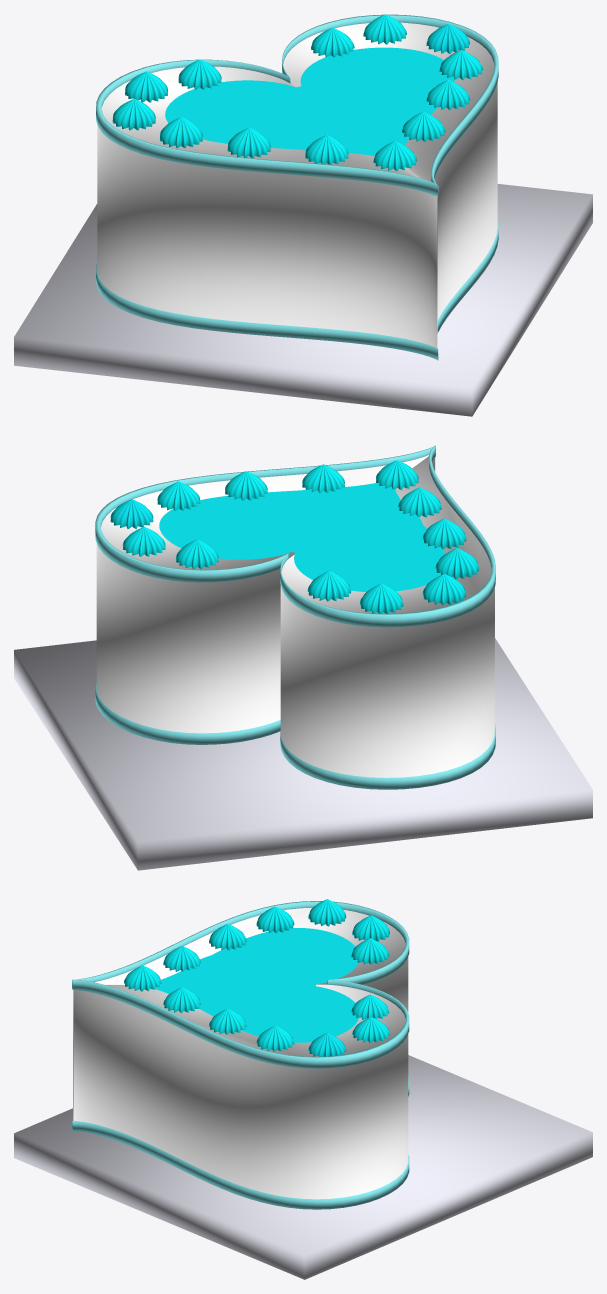
Rendered from heart_vanilla_style3.glb.
3 renders of one model, top to bottom at view 1: azimuth 30°, elevation 25°; view 2: azimuth 150°, elevation 25°; view 3: azimuth 270°, elevation 25°, orthographic. The views are drawn at different scales.
Parts seen in each view (by area): view 1: HeartCake, IcingStand, CakecolorCircle, IcingRing, CakeTopColor, IcingRing.001, design12, design9, design8, design10, design11, design7 (+7 smaller); view 2: HeartCake, IcingStand, CakecolorCircle, CakeTopColor, IcingRing, IcingRing.001, design12, design10, design9, design8, design11, design14 (+7 smaller); view 3: HeartCake, IcingStand, IcingRing, CakecolorCircle, CakeTopColor, IcingRing.001, design12, design9, design8, design10, design11, design4 (+7 smaller).
Boxes of the visible parts, x1,y1,x2,y2 form: HeartCake: (97, 22, 497, 348); IcingStand: (14, 184, 592, 416); CakecolorCircle: (165, 47, 454, 155); IcingRing: (96, 14, 498, 196); CakeTopColor: (249, 81, 425, 150); IcingRing.001: (96, 219, 498, 360); design12: (112, 98, 155, 130); design9: (160, 117, 202, 148); design8: (227, 127, 270, 158); design10: (125, 71, 167, 102); design11: (178, 59, 221, 89); design7: (305, 135, 348, 164); HeartCake: (96, 455, 494, 777); IcingStand: (14, 638, 592, 870); CakecolorCircle: (159, 483, 445, 591); CakeTopColor: (246, 489, 422, 557); IcingRing: (95, 445, 495, 627); IcingRing.001: (95, 681, 495, 789); design12: (422, 573, 466, 605); design10: (360, 583, 403, 613); design9: (435, 548, 478, 579); design8: (423, 518, 466, 549); design11: (307, 570, 351, 601); design14: (176, 539, 218, 569); HeartCake: (73, 908, 408, 1199); IcingStand: (14, 1055, 592, 1279); IcingRing: (72, 901, 409, 1068); CakecolorCircle: (155, 928, 358, 1042); CakeTopColor: (178, 950, 315, 1017); IcingRing.001: (72, 1077, 409, 1209); design12: (308, 899, 346, 926); design9: (256, 906, 294, 933); design8: (209, 924, 246, 950); design10: (352, 915, 389, 941); design11: (351, 938, 389, 964); design4: (256, 1025, 294, 1051).
Size of the model in its own units: 4.24 by 1.56 by 4.24.
